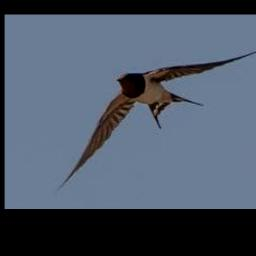Swallow: (55, 49, 256, 193)
